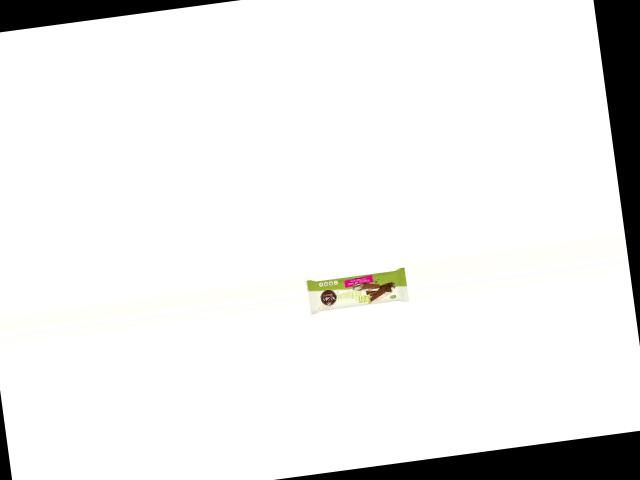chocolate: (306, 263, 411, 317)
